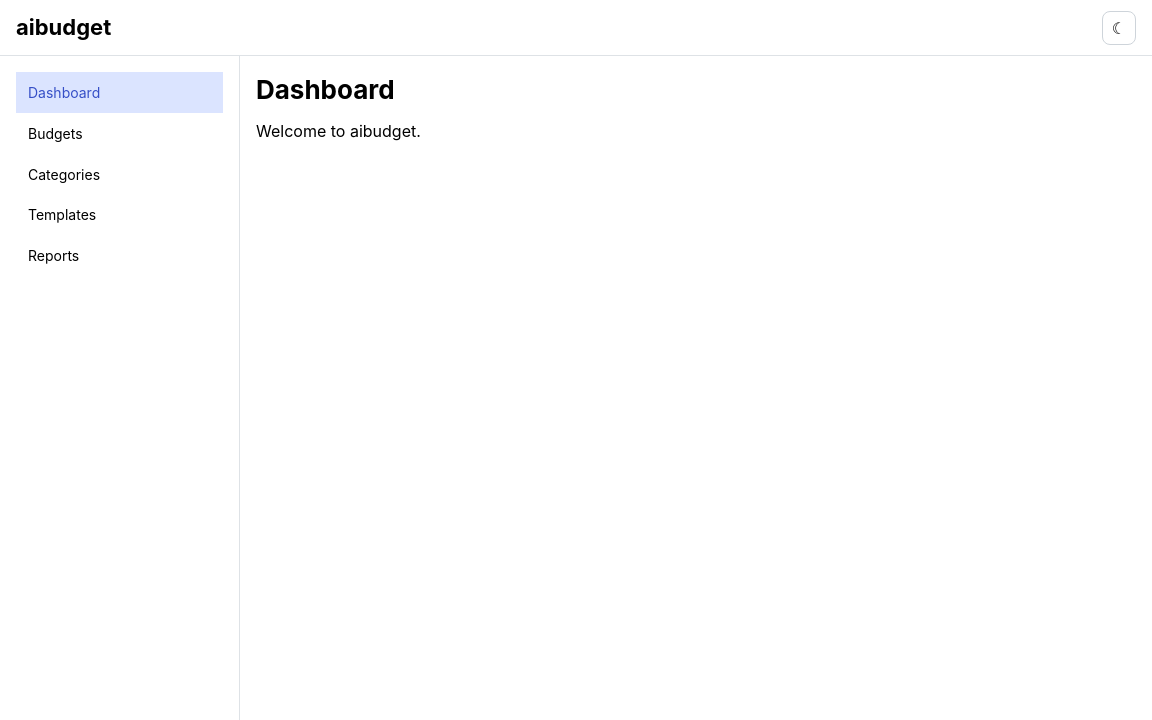
it: app shell › navigating to a section shows that section
What coordinates should you click on to do the following:
click the link "Budgets"
I would click on:
 (55, 133)
Its box is [28,125,83,142].
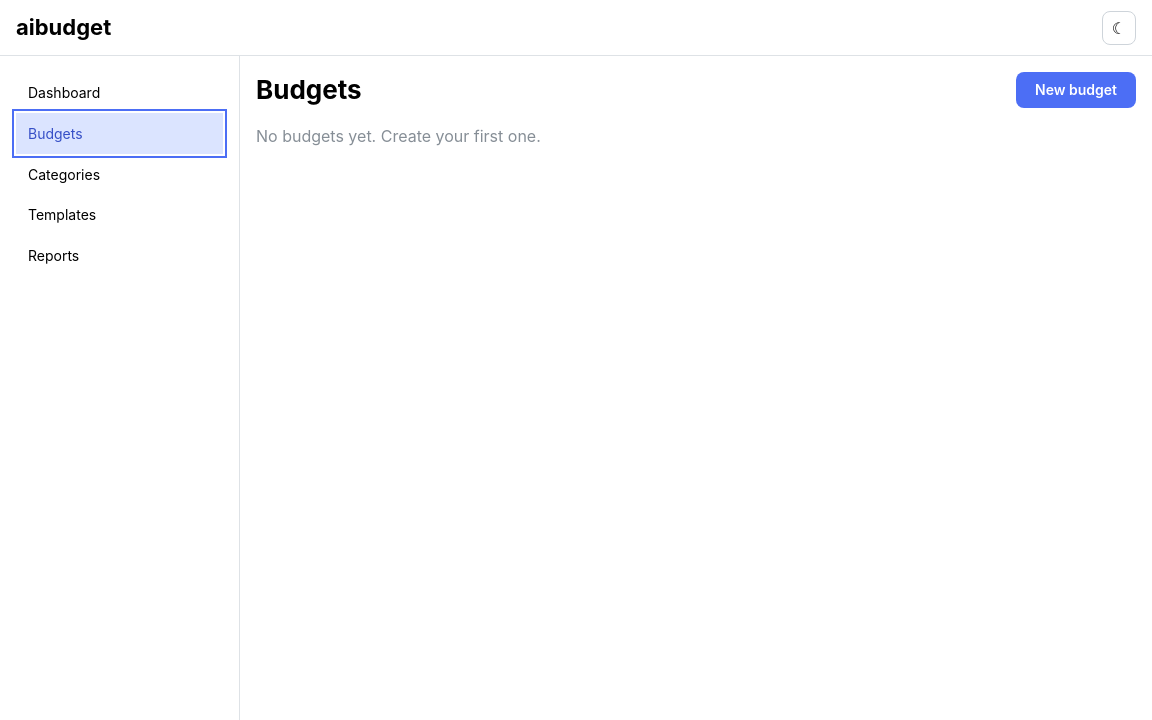
Expected: the heading "Budgets" is shown, [256,72,362,108]
